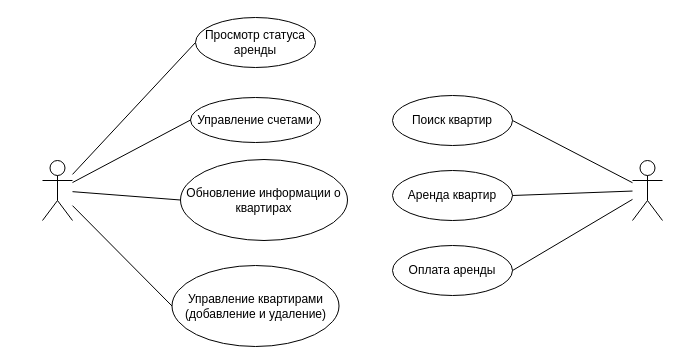
This 684x364 diagram has some shape labels left out. Each missing label, with the centre of its shape:
Арендодатель: the point at 57,190
Клиент: the point at 647,190
